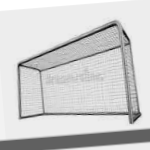goals: (16, 18, 143, 125)
